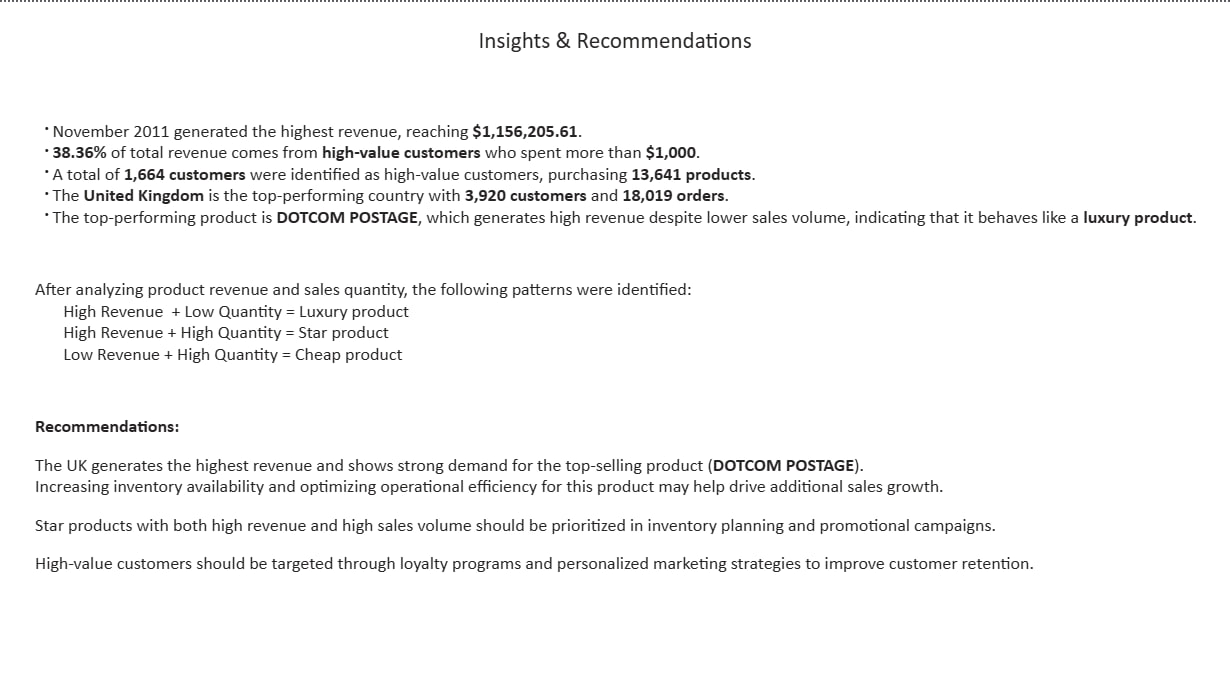

Layout of this report page (visuals, bound fields, positions):
{"tool":"powerbi","page":{"name":"Insights & Recommendations","canvas":[1280,720],"ordinal":4},"visuals":[{"type":"textbox","box":[0,19.2,1280.3,54.9],"z":0},{"type":"textbox","box":[32.3,99.5,1248,582.3],"z":1000}]}

Visuals, with their boxes in screenshot pixels (x1, y1, x2, y2), scaled from the page's 1280x720 canvas onto the 1230x695 screenshot:
textbox: 0:19:1229:72
textbox: 31:96:1229:658
